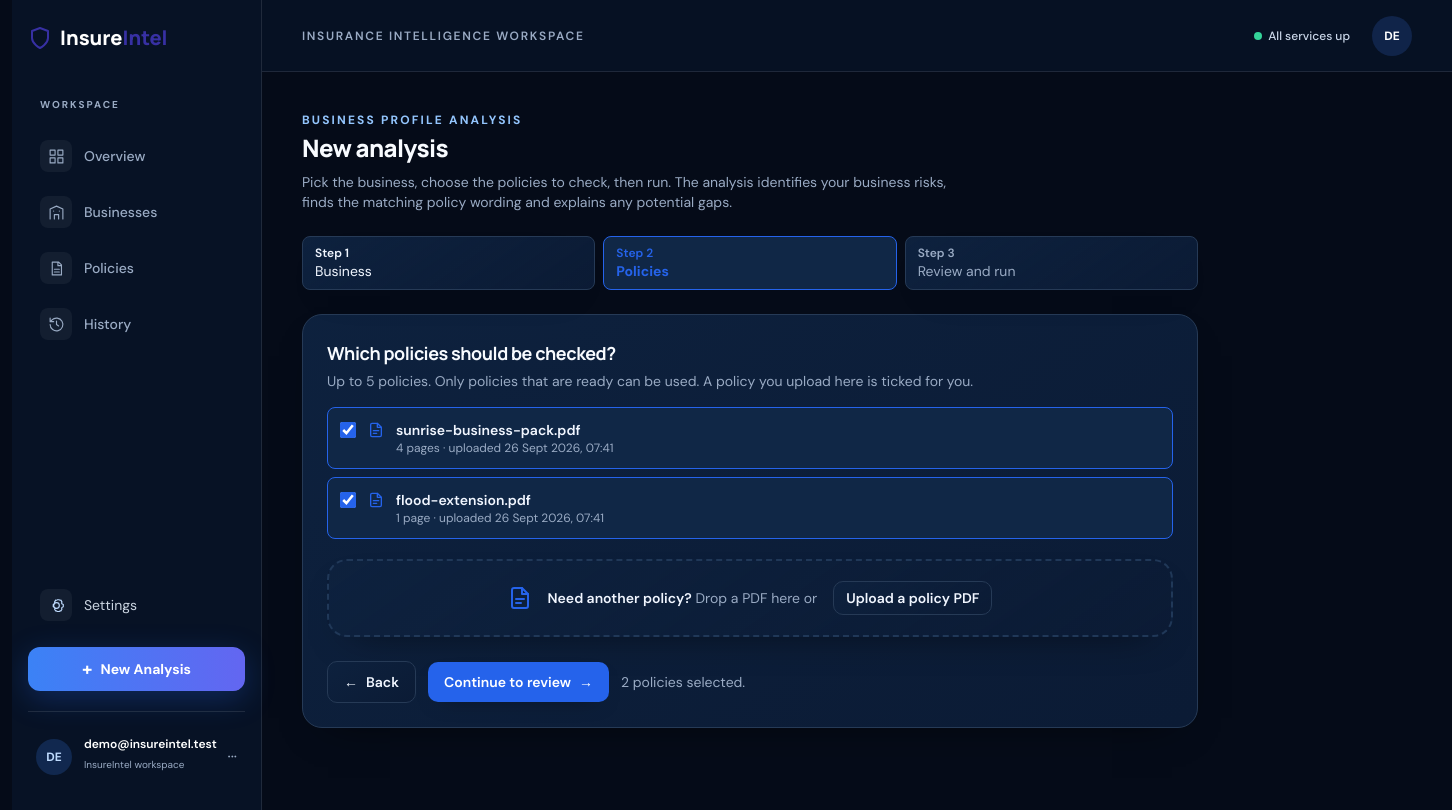
Scenario: new analysis: step 2, the policies › keeps the choice when moving to the review
expect the heading "New analysis" is shown: met, box left=302, top=131, right=448, bottom=164
Click the checkbox labelled "sunrise-business-pack.pdf".
click(348, 430)  # box left=340, top=422, right=356, bottom=438
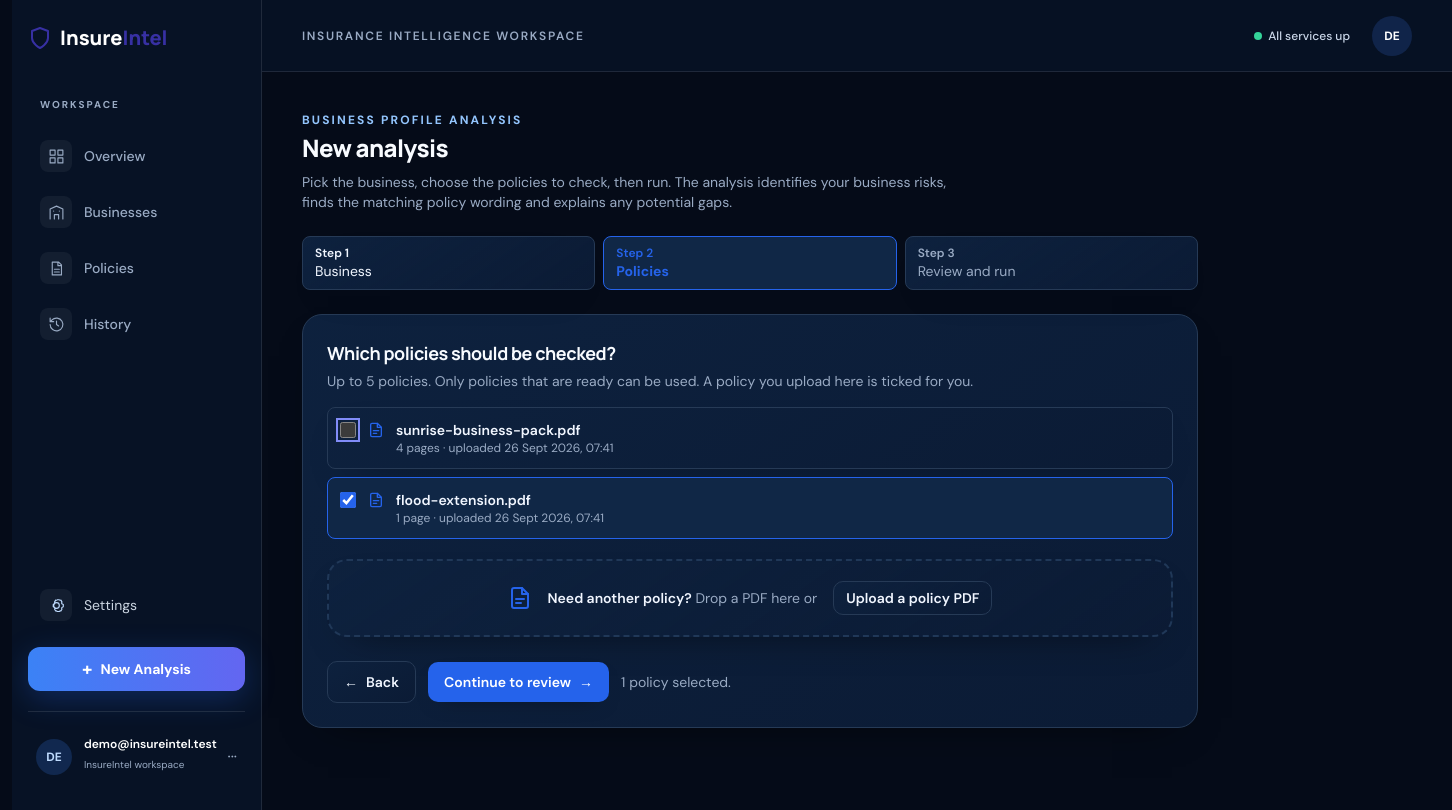
Click the button "Continue to review →".
click(519, 682)  # box left=428, top=662, right=609, bottom=702
(page scrolled)
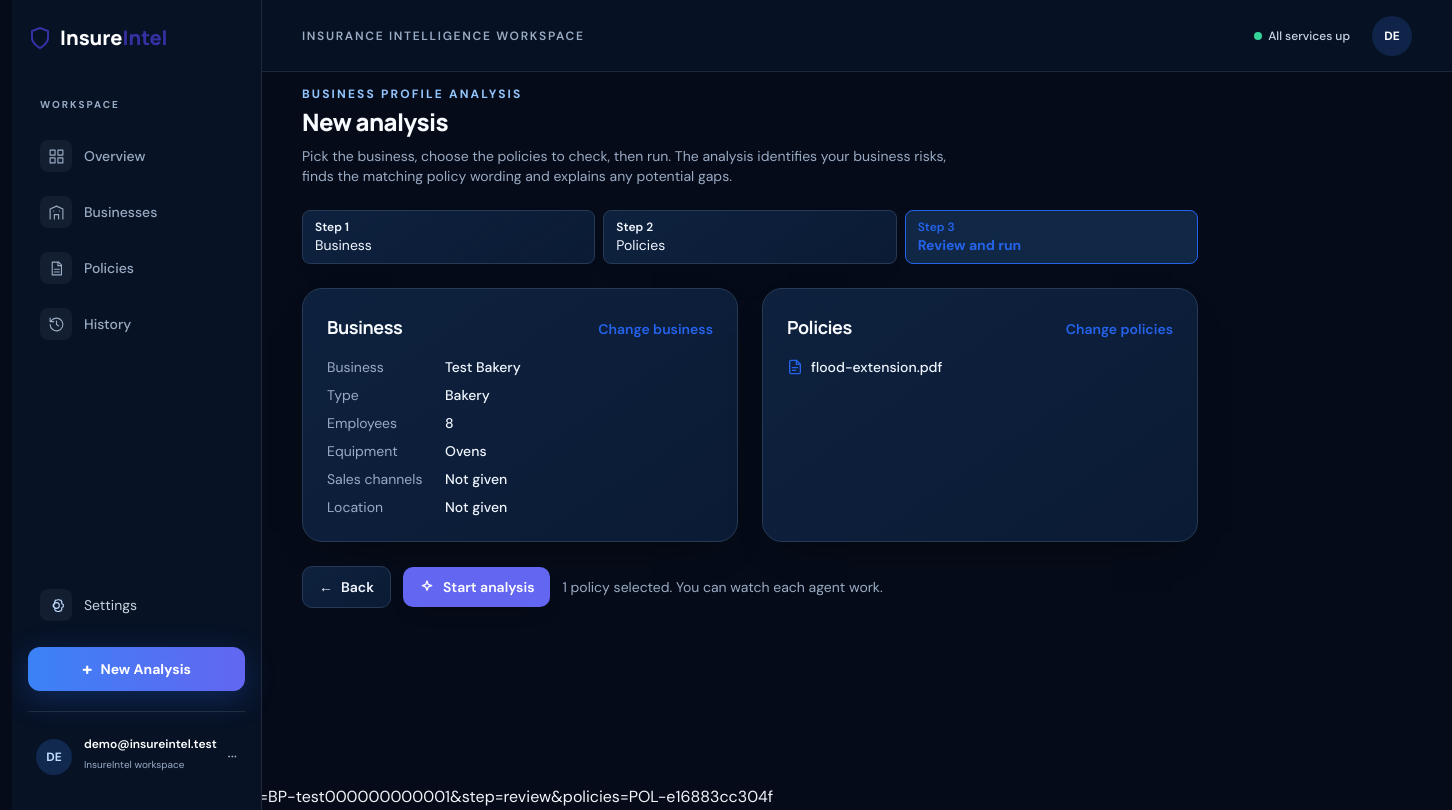
expect the list named "Chosen policies" reads "flood-extension.pdf": met, box left=811, top=358, right=942, bottom=376
expect the list named "Chosen policies" no longer shows "sunrise-business-pack.pdf": met, box left=787, top=358, right=942, bottom=376
expect the text with test id "location" shows "step=review": met, box left=12, top=786, right=773, bottom=807
